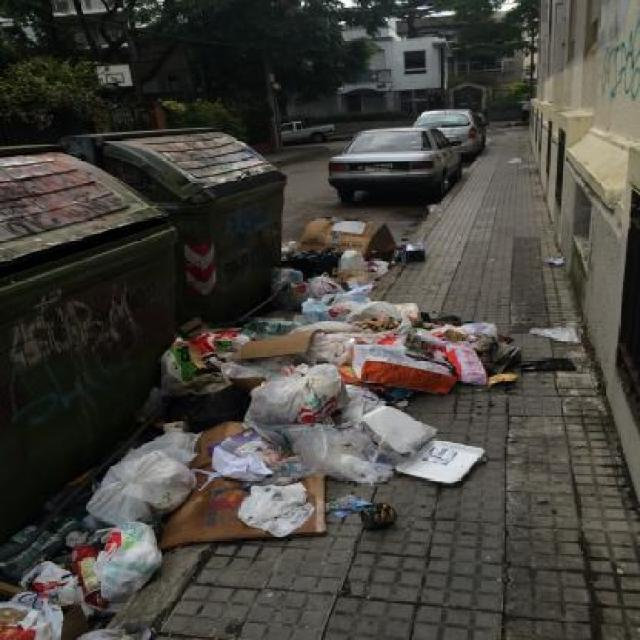garbage: (283, 214, 458, 488), (0, 420, 194, 629), (153, 331, 312, 536)
